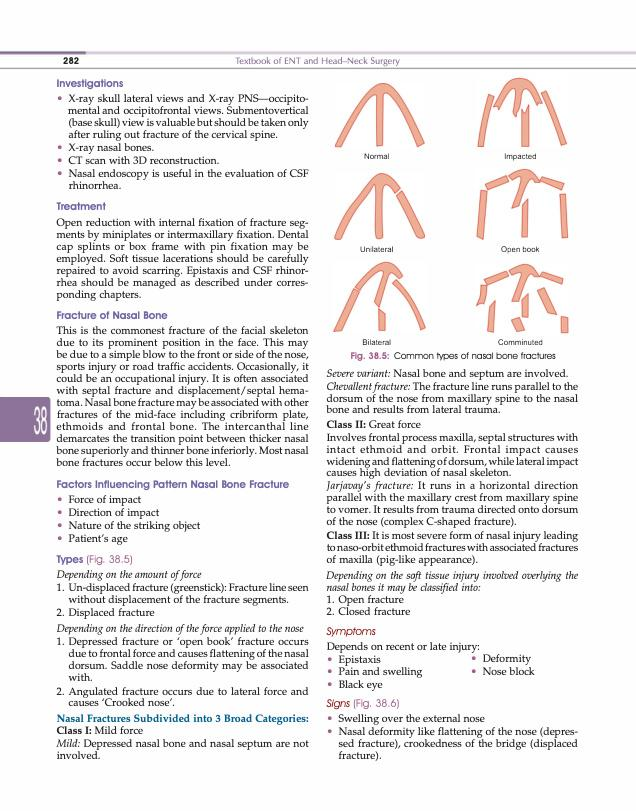caption: (350, 351, 557, 362)
header: (234, 55, 401, 68)
image: (330, 73, 572, 349), (472, 166, 572, 255), (472, 259, 572, 348), (472, 74, 571, 162), (331, 166, 428, 255), (331, 259, 428, 348), (332, 75, 428, 162)
list: (55, 92, 310, 191), (55, 636, 309, 707), (326, 713, 578, 762), (55, 582, 309, 620), (55, 494, 200, 546), (327, 654, 424, 691), (326, 594, 411, 617), (469, 653, 536, 678)
sub-section-heading: (56, 713, 309, 726), (55, 479, 289, 491), (325, 480, 413, 493), (56, 310, 167, 320), (54, 553, 133, 566), (325, 698, 400, 711), (56, 78, 124, 90), (326, 626, 377, 639), (55, 201, 107, 212), (326, 419, 367, 430), (325, 530, 370, 540), (55, 726, 92, 735)
text: (325, 367, 580, 594), (55, 325, 310, 467), (55, 217, 309, 302), (56, 726, 310, 761), (55, 623, 305, 635), (56, 569, 203, 582), (326, 641, 481, 653)
